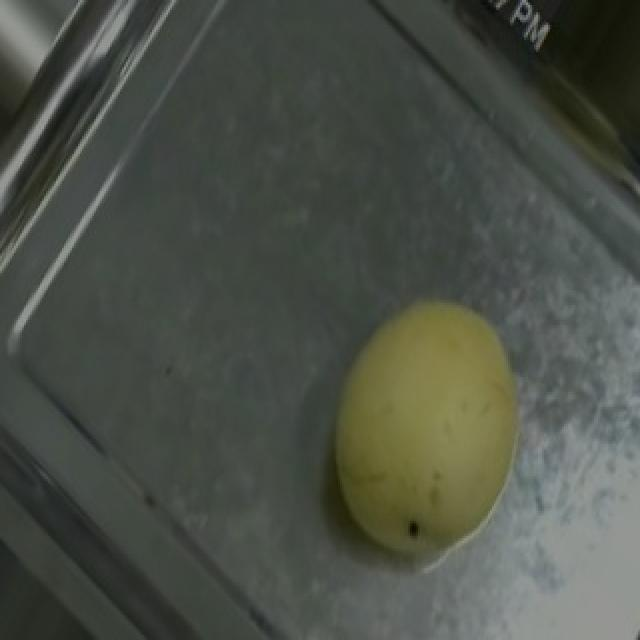Fruit: (286, 260, 558, 600)
